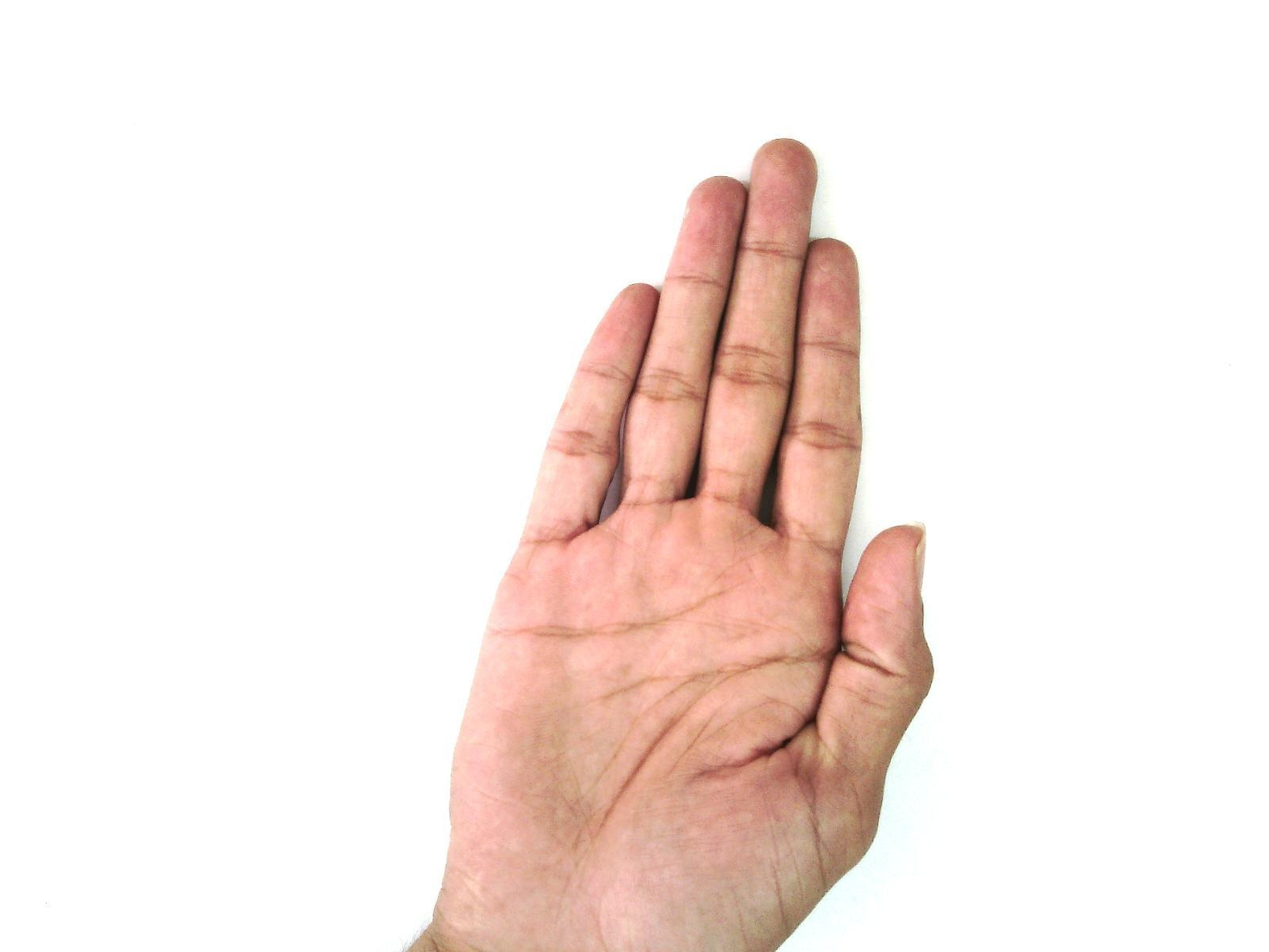open_palm: (415, 137, 937, 951)
